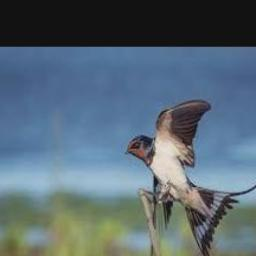Swallow: (127, 100, 256, 256)
